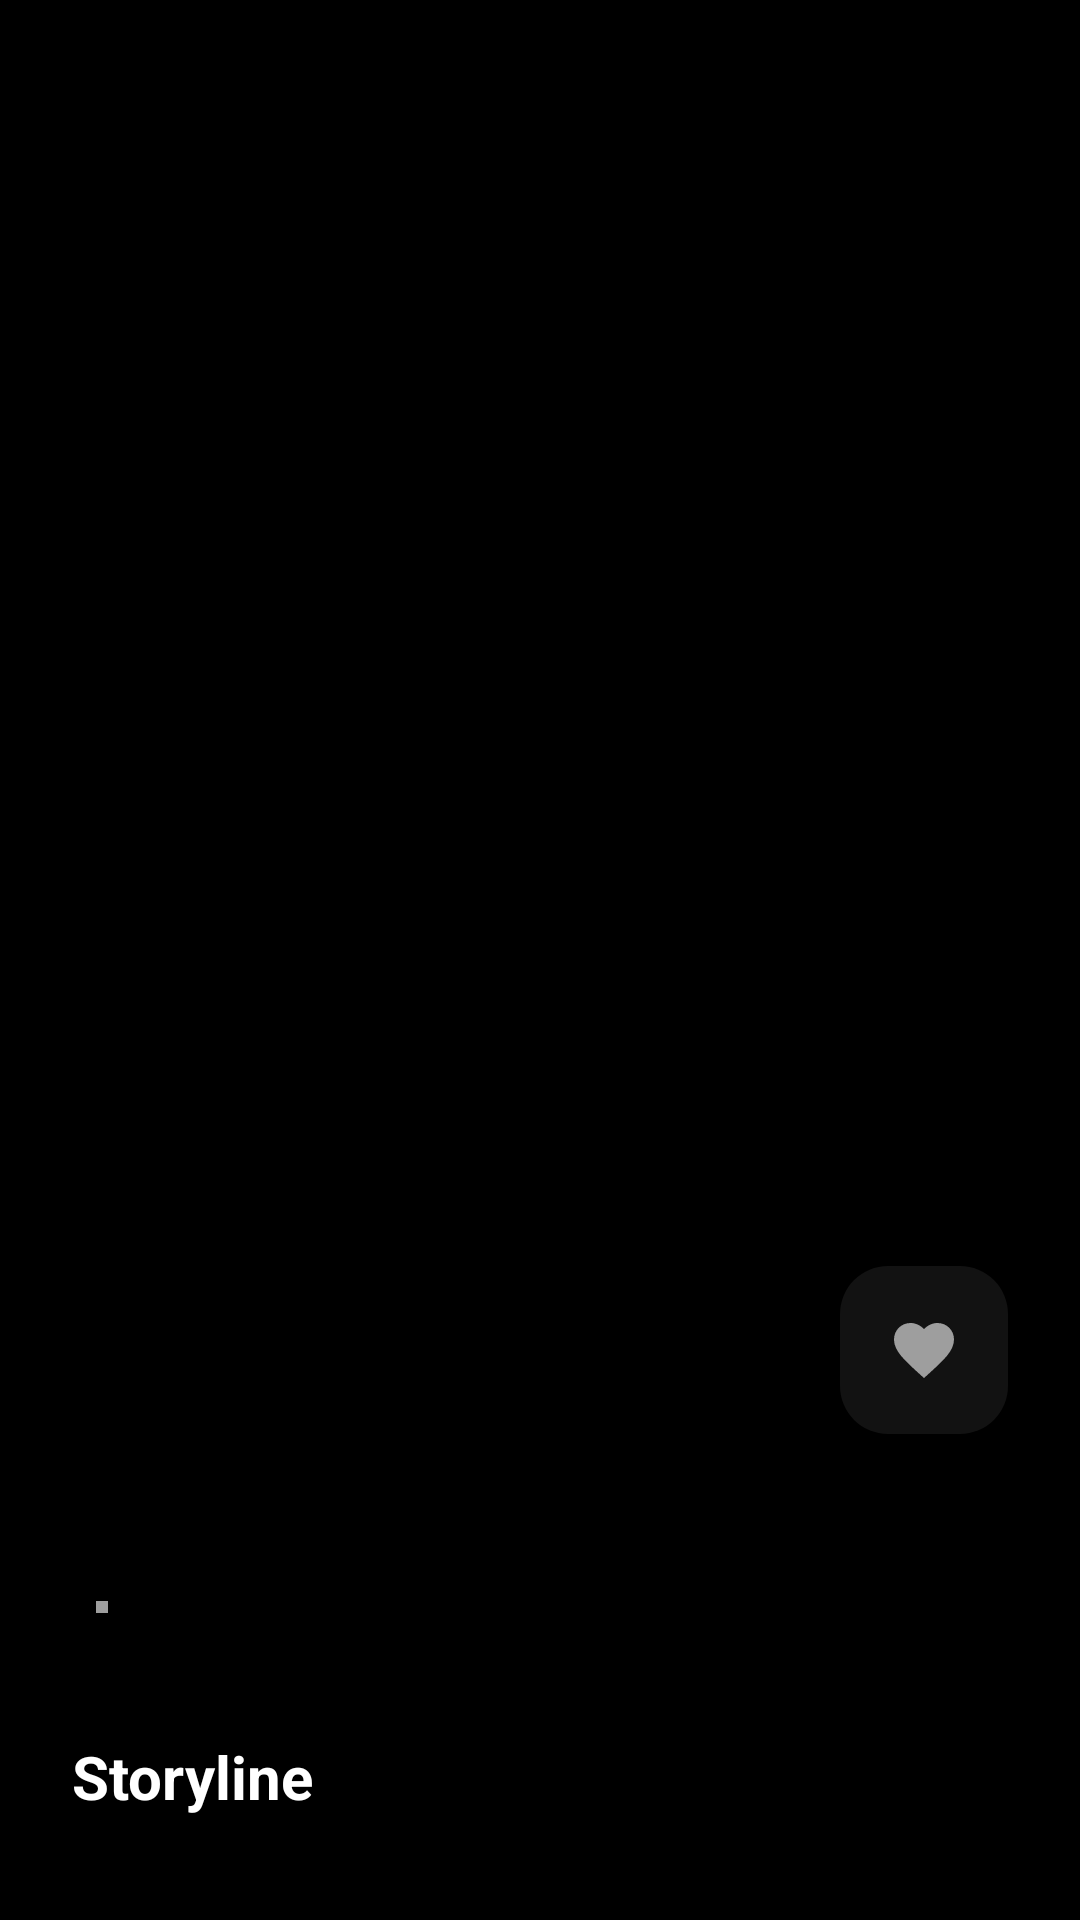

Point at icon controls on the screen. Image size 1080×1920, points as point (x, y).
favorite: point (924, 1350)
